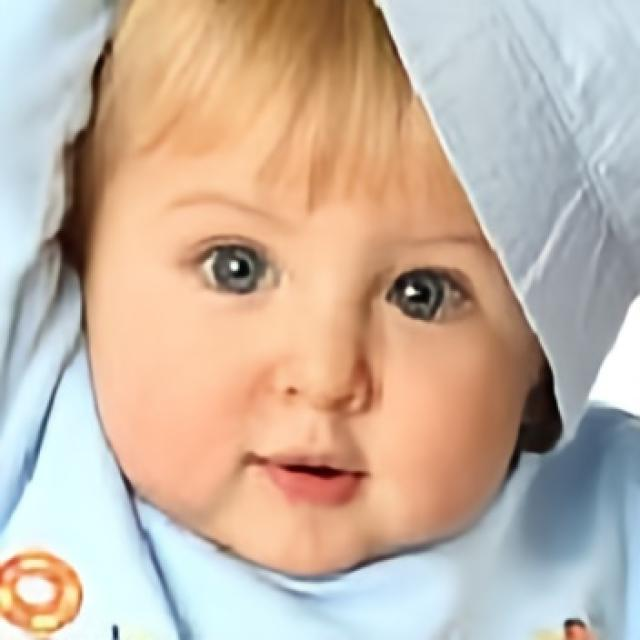surprise: (82, 0, 550, 575), (566, 627, 586, 640)
